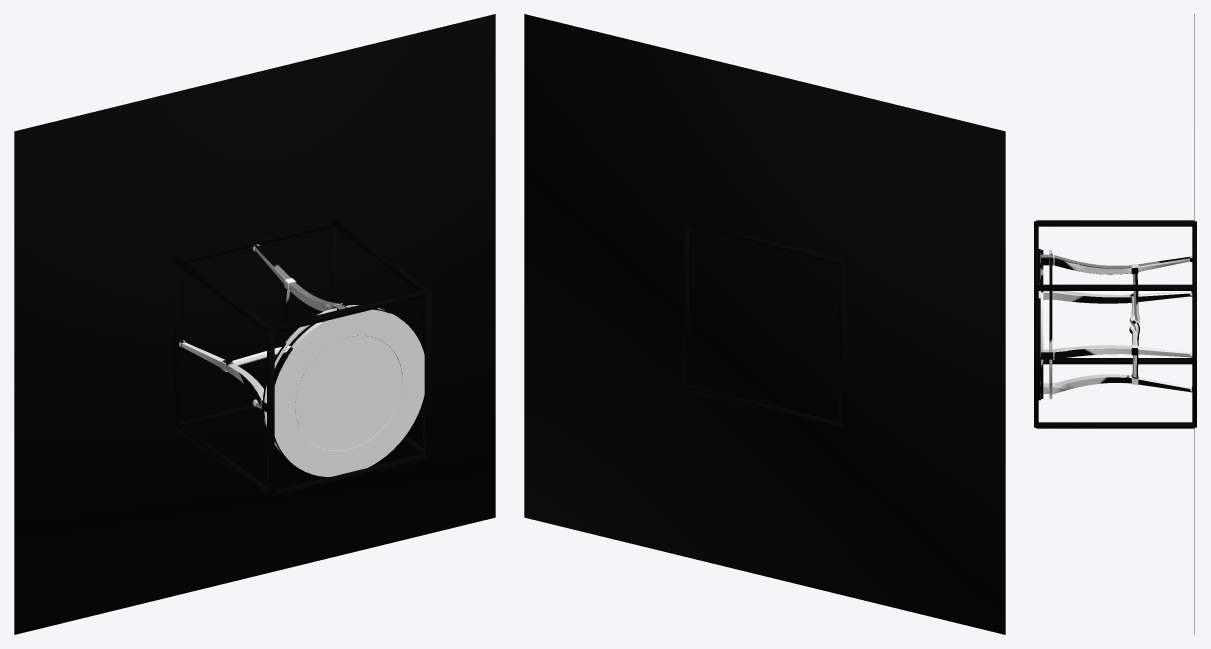
3 renders of one model, left to right at view 1: azimuth 30°, elevation 25°; view 2: azimuth 150°, elevation 25°; view 3: azimuth 270°, elevation 25°, orthographic. The views are drawn at different scales.
Bounding box in the file's own units: 2 × 2 × 0.6966.
